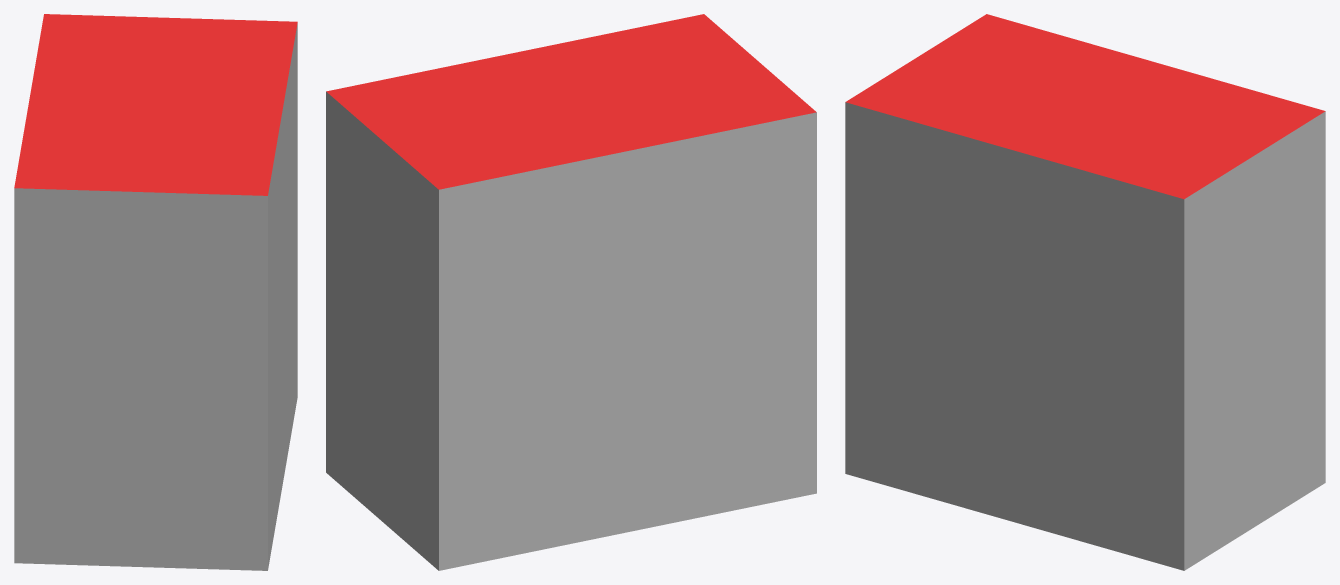
Rendered from ID_320a6ab3-de0a-4b59-9730-1d1b5c90cfb3.dae.
3 views of the same model, side by side, from view 1: azimuth 30°, elevation 25°; view 2: azimuth 150°, elevation 25°; view 3: azimuth 270°, elevation 25° (orthographic). The views are drawn at different scales.
Bounding box in the file's own units: 13.92 × 15.25 × 13.02.
